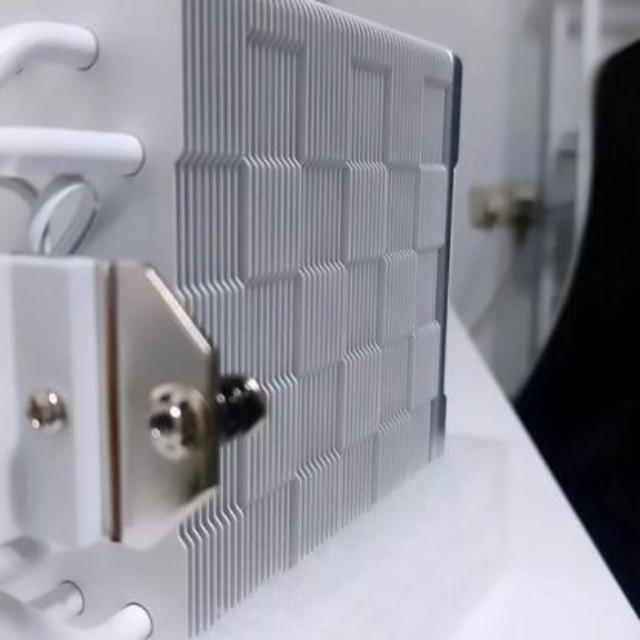CPU_Fan: (17, 2, 454, 640)
